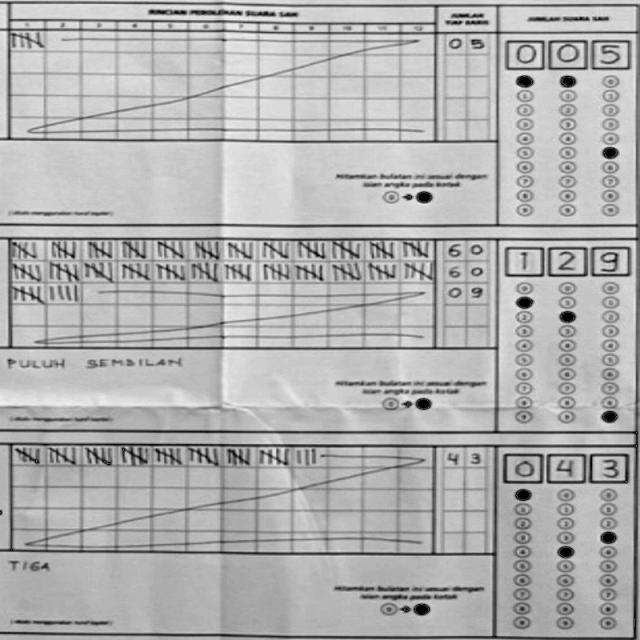Suara: (506, 28, 633, 74), (498, 446, 630, 486), (498, 241, 633, 280)
